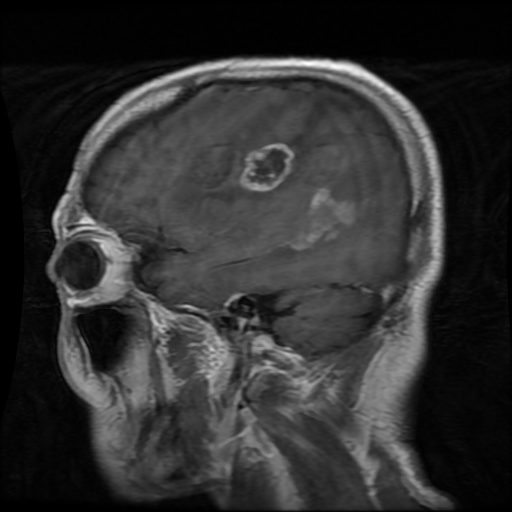glioma: (238, 142, 295, 190)
